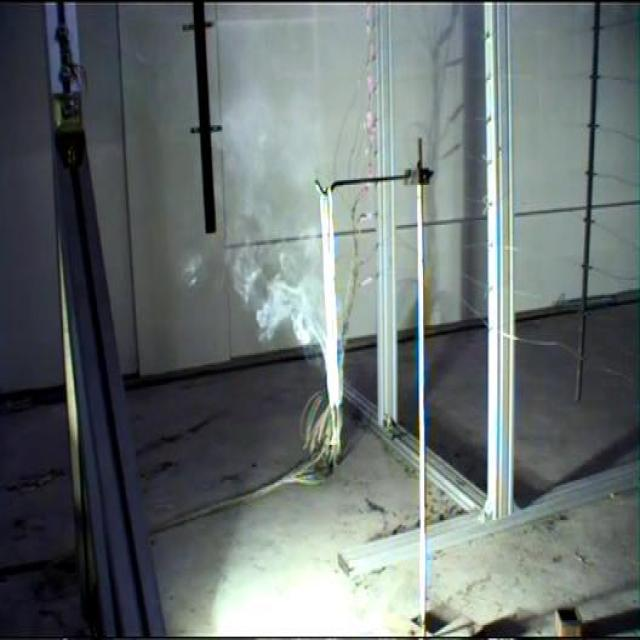smoke: (180, 86, 328, 366)
